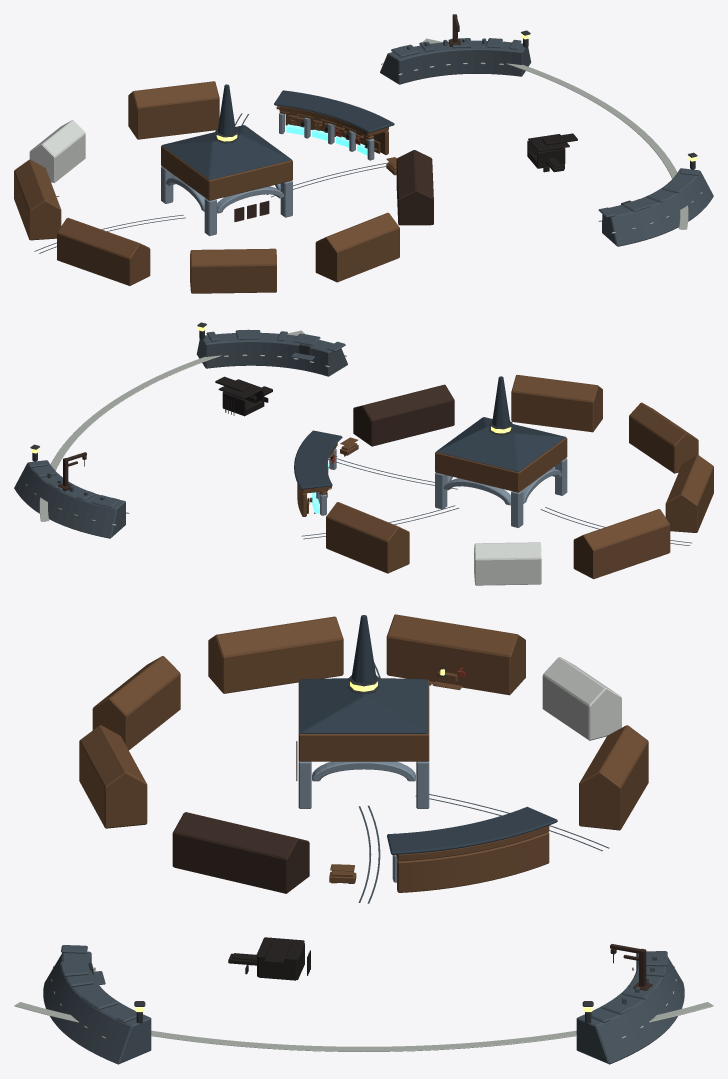
Rendered from DD_Structures.fbx.
The picture shows the model from 3 angles, top to bottom: view 1: azimuth 30°, elevation 25°; view 2: azimuth 150°, elevation 25°; view 3: azimuth 270°, elevation 25°; orthographic projection. The views are drawn at different scales.
Visible parts, largest first — view 1: DD_Struct_WarehouseA.001, DD_Struct_BreakwaterNorth.001, DD_Struct_Cooperage.001, DD_Struct_BreakwaterSouth.001, DD_Struct_WarehouseB.001, DD_Struct_NetLoft.001, DD_Struct_ShopRoof.001, DD_Struct_InnFrontage.001, DD_Struct_ShopUpper.001, DD_Struct_BoatShed.001, DD_Struct_SaltHouse.001, DD_Struct_RowRoof.001 (+11 smaller); view 2: DD_Struct_InnFrontage.001, DD_Struct_WarehouseB.001, DD_Struct_BoatShed.001, DD_Struct_BreakwaterSouth.001, DD_Struct_WarehouseA.001, DD_Struct_BreakwaterNorth.001, DD_Struct_ShopRoof.001, DD_Struct_NetLoft.001, DD_Struct_SaltHouse.001, DD_Struct_ShopUpper.001, DD_Struct_Cooperage.001, DD_Struct_RowRoof.001 (+9 smaller); view 3: DD_Struct_InnFrontage.001, DD_Struct_Cooperage.001, DD_Struct_BoatShed.001, DD_Struct_ShopRoof.001, DD_Struct_BreakwaterSouth.001, DD_Struct_BreakwaterNorth.001, DD_Struct_WarehouseA.001, DD_Struct_WarehouseB.001, DD_Struct_RowBackWall.001, DD_Struct_NetLoft.001, DD_Struct_SaltHouse.001, DD_Struct_ShopUpper.001 (+9 smaller).
Part boxes in pixels (bbox=[...]): DD_Struct_WarehouseA.001: bbox=[128, 81, 219, 139]; DD_Struct_BreakwaterNorth.001: bbox=[380, 40, 531, 84]; DD_Struct_Cooperage.001: bbox=[57, 217, 150, 285]; DD_Struct_BreakwaterSouth.001: bbox=[602, 168, 713, 246]; DD_Struct_WarehouseB.001: bbox=[315, 212, 399, 282]; DD_Struct_NetLoft.001: bbox=[190, 248, 276, 293]; DD_Struct_ShopRoof.001: bbox=[162, 125, 291, 180]; DD_Struct_InnFrontage.001: bbox=[14, 159, 61, 240]; DD_Struct_ShopUpper.001: bbox=[161, 145, 292, 200]; DD_Struct_BoatShed.001: bbox=[396, 150, 433, 225]; DD_Struct_SaltHouse.001: bbox=[29, 120, 85, 182]; DD_Struct_RowRoof.001: bbox=[274, 90, 394, 132]; DD_Struct_InnFrontage.001: bbox=[573, 509, 670, 579]; DD_Struct_WarehouseB.001: bbox=[511, 374, 602, 432]; DD_Struct_BoatShed.001: bbox=[353, 384, 454, 446]; DD_Struct_BreakwaterSouth.001: bbox=[196, 332, 347, 376]; DD_Struct_WarehouseA.001: bbox=[326, 502, 409, 573]; DD_Struct_BreakwaterNorth.001: bbox=[14, 460, 125, 538]; DD_Struct_ShopRoof.001: bbox=[436, 417, 565, 472]; DD_Struct_NetLoft.001: bbox=[629, 402, 698, 473]; DD_Struct_SaltHouse.001: bbox=[474, 542, 541, 585]; DD_Struct_ShopUpper.001: bbox=[435, 437, 567, 492]; DD_Struct_Cooperage.001: bbox=[665, 455, 713, 532]; DD_Struct_RowRoof.001: bbox=[294, 430, 342, 489]; DD_Struct_InnFrontage.001: bbox=[386, 614, 525, 695]; DD_Struct_Cooperage.001: bbox=[208, 616, 343, 693]; DD_Struct_BoatShed.001: bbox=[172, 812, 309, 893]; DD_Struct_ShopRoof.001: bbox=[299, 678, 428, 733]; DD_Struct_BreakwaterSouth.001: bbox=[43, 951, 151, 1064]; DD_Struct_BreakwaterNorth.001: bbox=[576, 953, 684, 1064]; DD_Struct_WarehouseA.001: bbox=[579, 725, 648, 830]; DD_Struct_WarehouseB.001: bbox=[79, 725, 147, 828]; DD_Struct_RowBackWall.001: bbox=[397, 832, 549, 892]; DD_Struct_NetLoft.001: bbox=[92, 656, 180, 750]; DD_Struct_SaltHouse.001: bbox=[542, 657, 621, 740]; DD_Struct_ShopUpper.001: bbox=[298, 680, 429, 761].
Bounding box in the file's own units: 4.2 × 0.9575 × 3.21.
